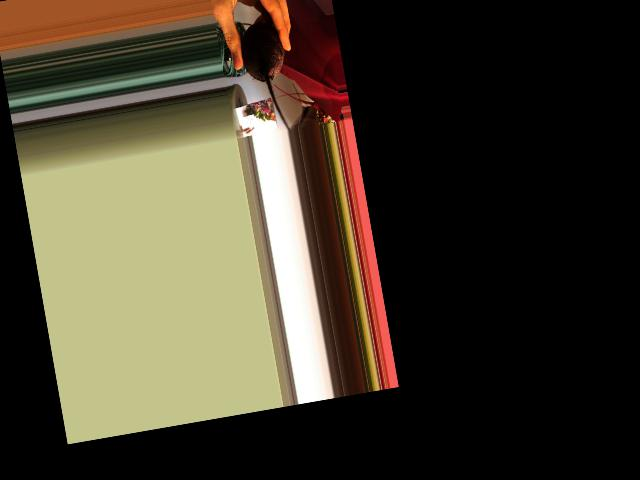beet: (236, 18, 297, 137)
